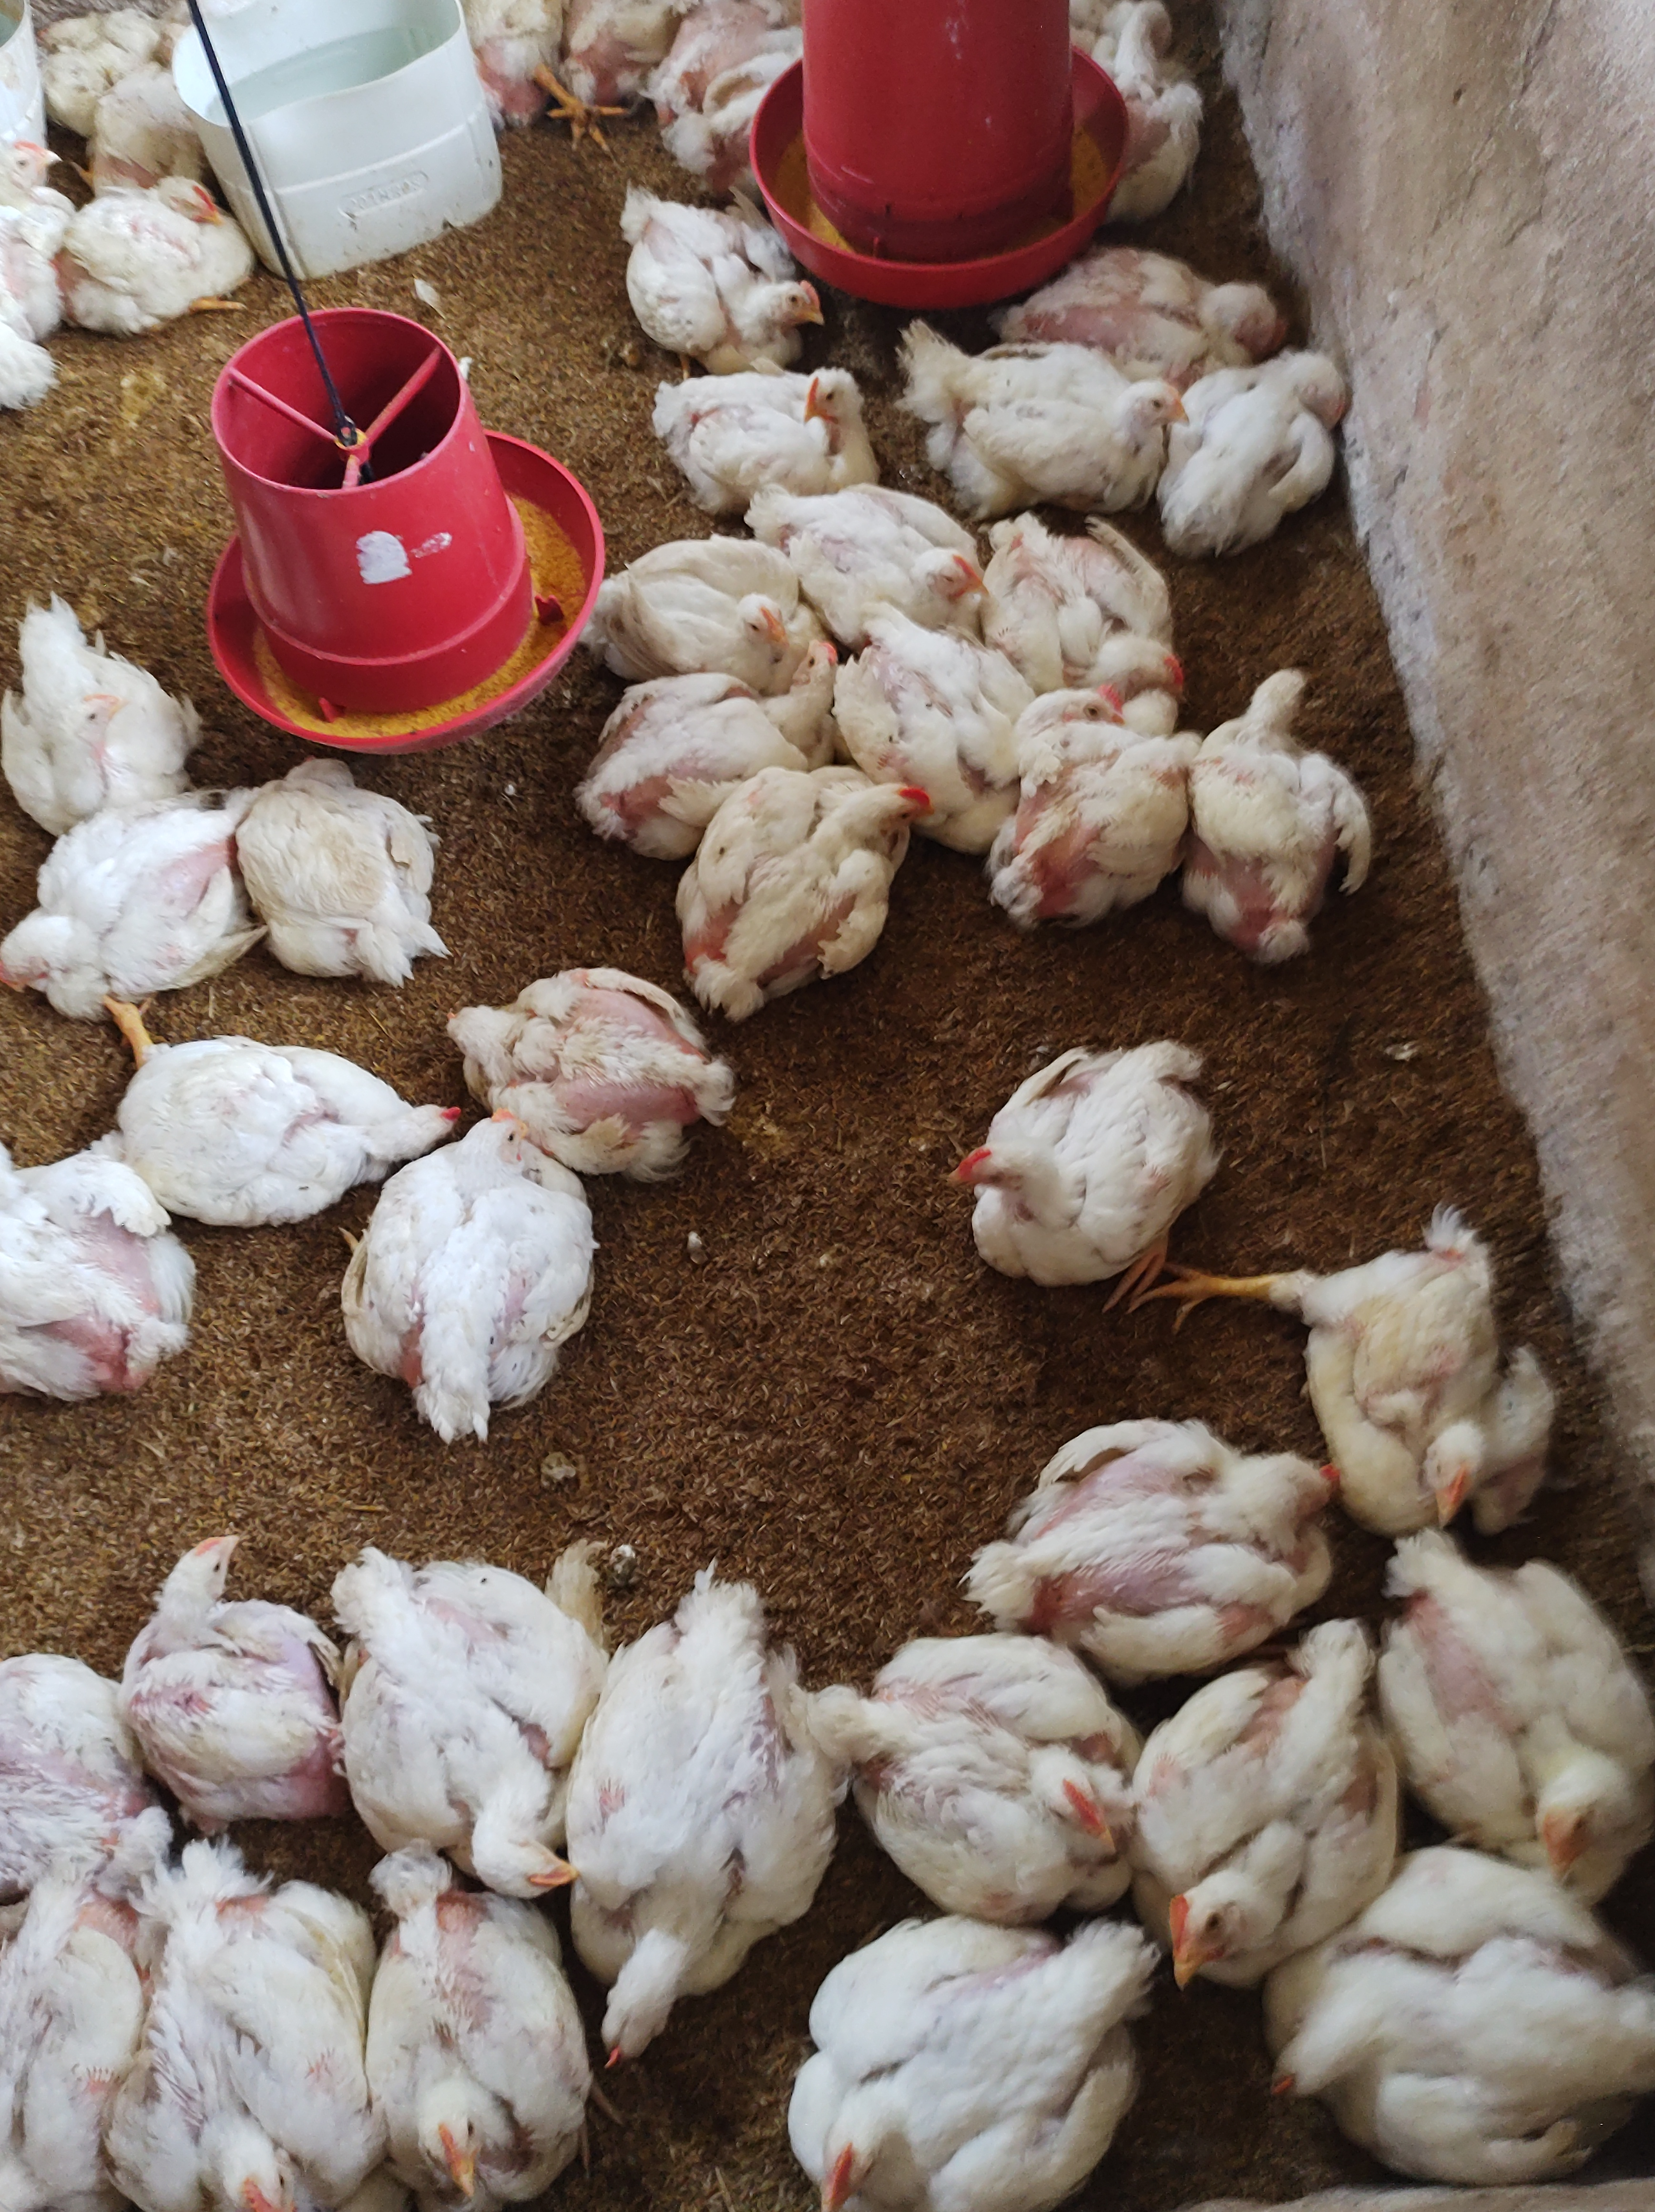Pollos: (577, 1586, 841, 2059), (751, 1916, 1163, 2212), (302, 1541, 631, 1897), (1262, 1909, 1655, 2196), (1372, 1546, 1655, 1892), (977, 1395, 1337, 1666), (341, 1111, 621, 1443), (829, 1633, 1140, 1930), (937, 1021, 1229, 1327), (1133, 1662, 1387, 1998), (137, 1857, 370, 2212), (1323, 1216, 1565, 1537), (372, 1885, 605, 2210), (120, 1016, 445, 1228), (443, 956, 763, 1160), (123, 1511, 329, 1821), (676, 769, 932, 1014), (0, 1118, 203, 1409), (0, 790, 235, 1038), (608, 642, 854, 842), (979, 687, 1196, 911), (1200, 664, 1366, 955), (254, 753, 447, 995), (1172, 336, 1366, 570), (2, 590, 205, 800), (920, 332, 1184, 489), (619, 191, 845, 365), (75, 170, 243, 358), (1007, 513, 1179, 687), (789, 475, 982, 621), (1040, 256, 1293, 363), (681, 362, 873, 499), (461, 0, 577, 163), (647, 550, 808, 663), (570, 0, 683, 157), (0, 130, 76, 344), (987, 673, 1111, 741)
